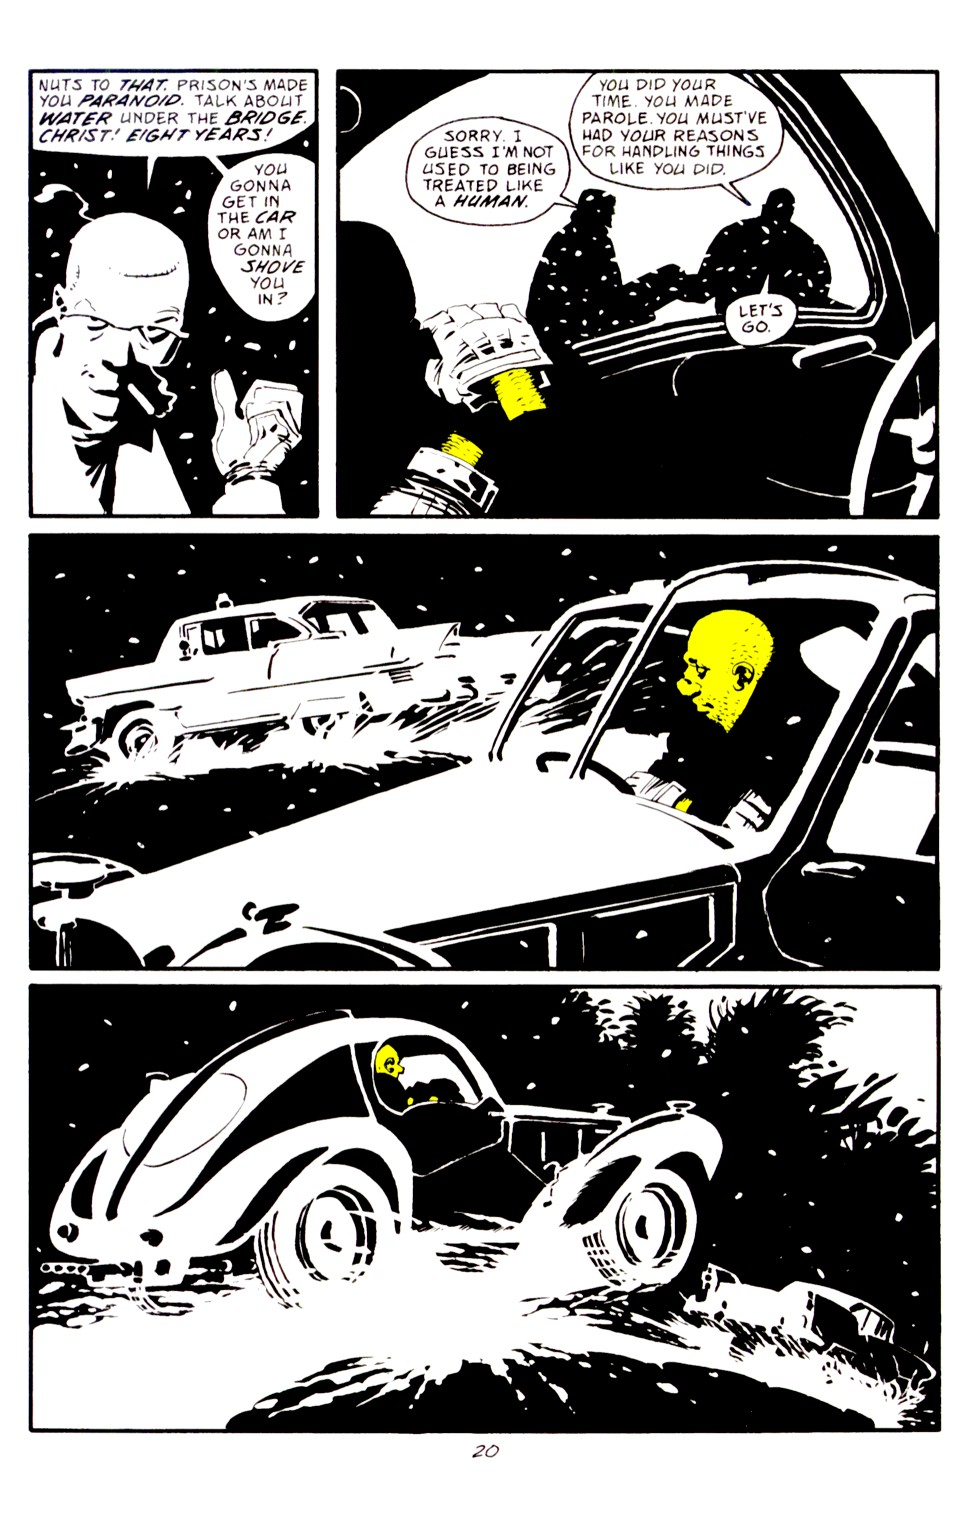Baloon: (563, 65, 779, 211), (32, 69, 323, 155), (205, 148, 321, 321), (402, 118, 576, 228), (721, 255, 804, 341)
Vignetta: (30, 981, 944, 1435), (30, 532, 938, 969), (339, 65, 938, 521), (25, 72, 316, 517)
